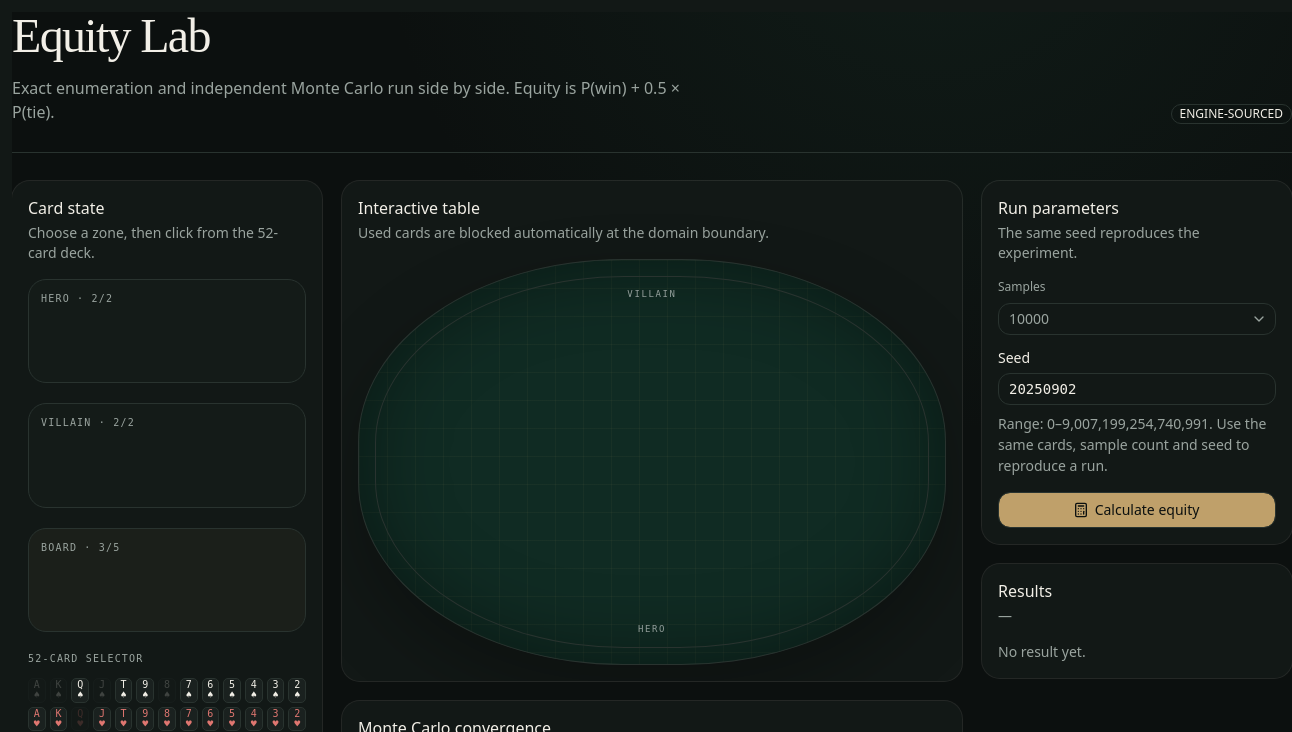
Test case: equity seed precision (en) › submits safe seed 0 as an exact integer and preserves the original text
The width and height of the screenshot is (1292, 732).
Step 1. Replace the text in the field labelled "Seed" with "0" → x=1137, y=389, box [998,373,1276,405]
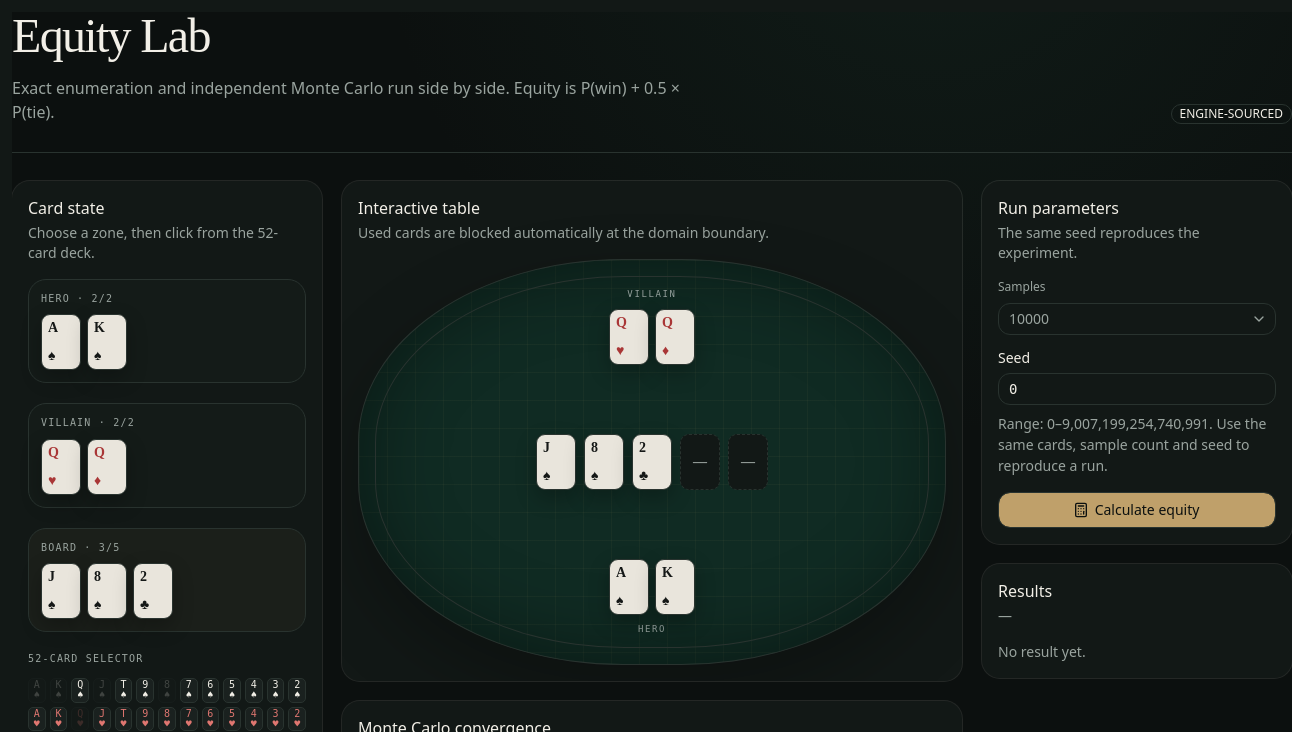
Step 2. Click the button "Calculate equity" → x=1137, y=510, box [998,492,1276,528]
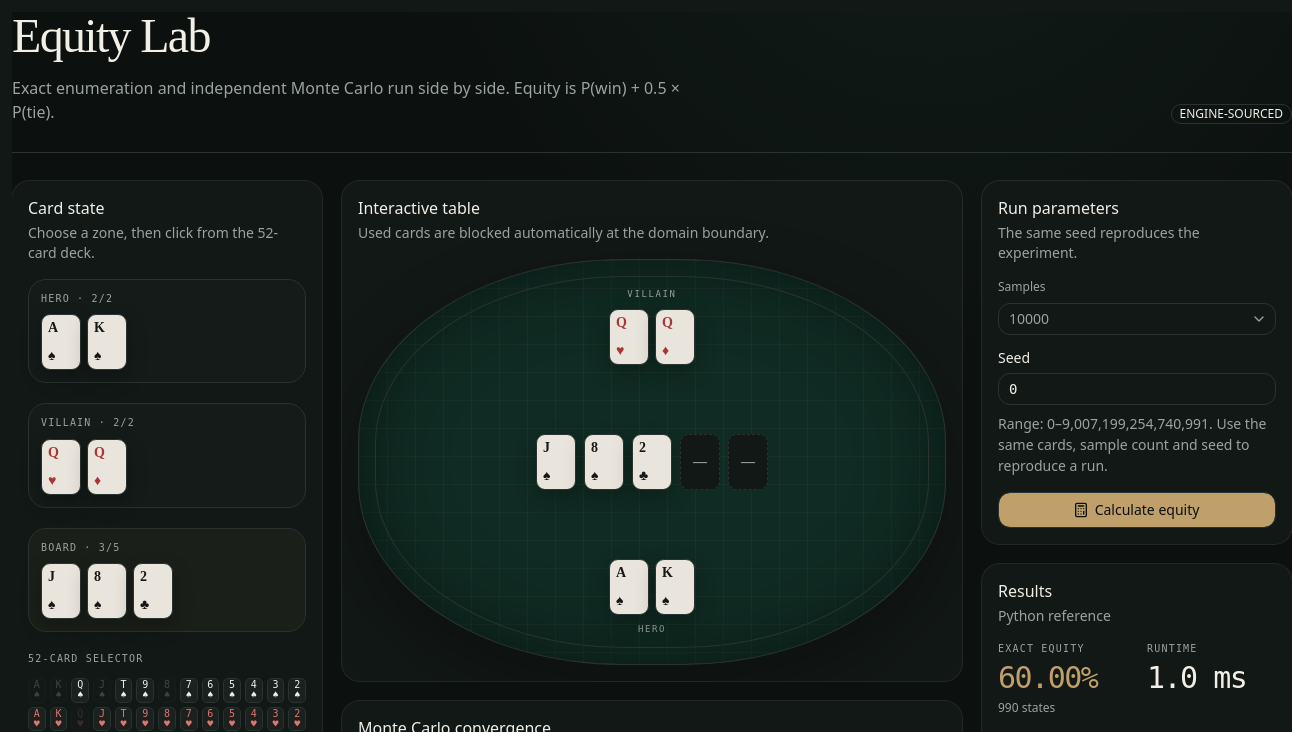
Expected: the text "Exact equity" is shown, [998,643,1085,654]
